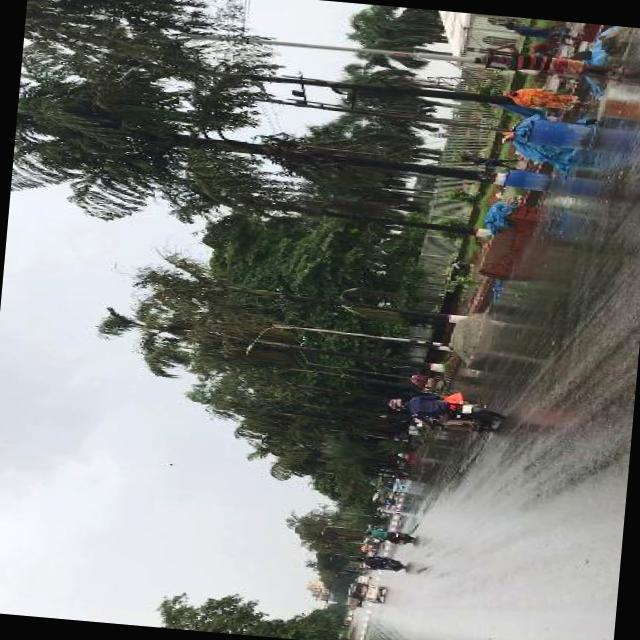car: (356, 572, 369, 581)
motorcycle: (382, 390, 508, 435), (407, 370, 452, 394), (361, 524, 414, 544), (344, 578, 386, 601), (354, 553, 406, 571)
